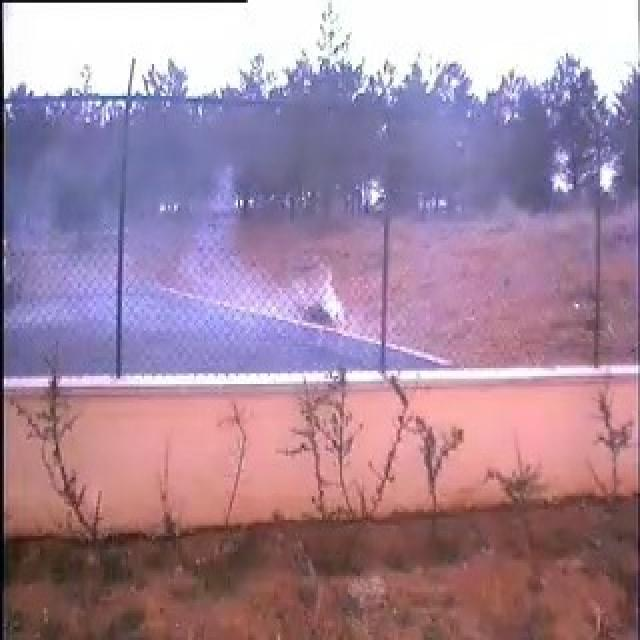smoke: (123, 100, 390, 374)
